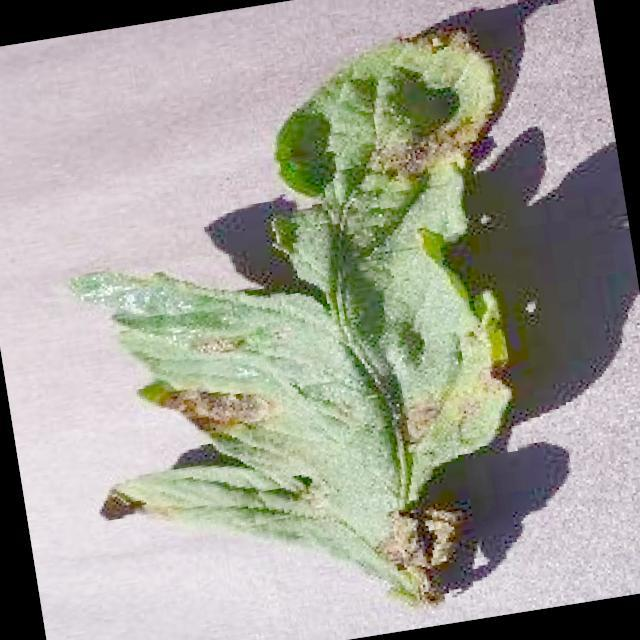Tomato Early blight leaf: (31, 22, 574, 640)
